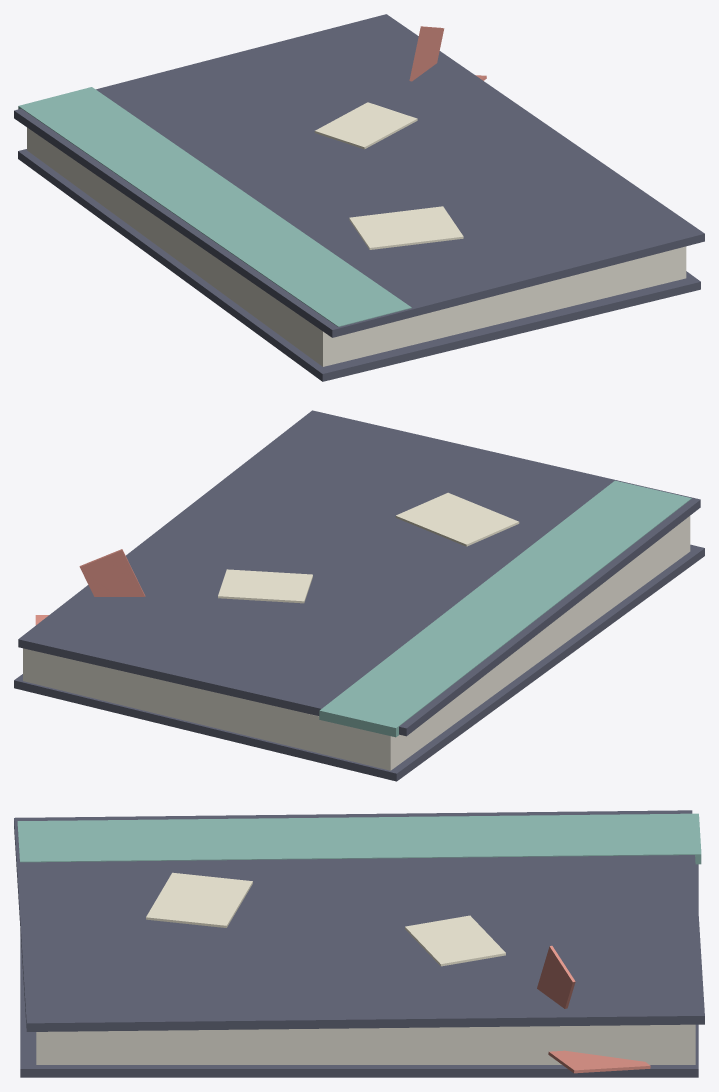
Rendered from item_71_lesson_book.glb.
The picture shows the model from 3 angles, top to bottom: view 1: azimuth 30°, elevation 25°; view 2: azimuth 150°, elevation 25°; view 3: azimuth 270°, elevation 25°; orthographic projection. The views are drawn at different scales.
Parts seen in each view (by area): view 1: I71_TopCover, I71_SpineBand, I71_Pages, I71_BotCover, I71_Note1, I71_Note2, I71_Ribbon1; view 2: I71_TopCover, I71_SpineBand, I71_Pages, I71_BotCover, I71_Note1, I71_Note2, I71_Ribbon1; view 3: I71_TopCover, I71_SpineBand, I71_Pages, I71_BotCover, I71_Note1, I71_Note2, I71_Ribbon2, I71_Ribbon1.
Boxes of the visible parts, x1,y1,x2,y2 form: I71_TopCover: (14, 14, 704, 337); I71_SpineBand: (18, 87, 411, 326); I71_Pages: (27, 127, 686, 366); I71_BotCover: (18, 149, 700, 381); I71_Note1: (349, 206, 463, 249); I71_Note2: (314, 102, 417, 149); I71_Ribbon1: (409, 26, 444, 81); I71_TopCover: (18, 410, 700, 736); I71_SpineBand: (319, 480, 691, 737); I71_Pages: (23, 516, 690, 770); I71_BotCover: (14, 544, 704, 781); I71_Note1: (395, 492, 519, 546); I71_Note2: (218, 569, 312, 603); I71_Ribbon1: (79, 549, 145, 596); I71_TopCover: (14, 810, 704, 1031); I71_SpineBand: (17, 813, 701, 864); I71_Pages: (36, 1024, 695, 1064); I71_BotCover: (20, 864, 698, 1077); I71_Note1: (146, 872, 252, 927); I71_Note2: (405, 915, 505, 966); I71_Ribbon2: (548, 1050, 650, 1073); I71_Ribbon1: (537, 945, 575, 1008).
Bounding box in the file's own units: 0.1686 × 0.0378 × 0.2159.
